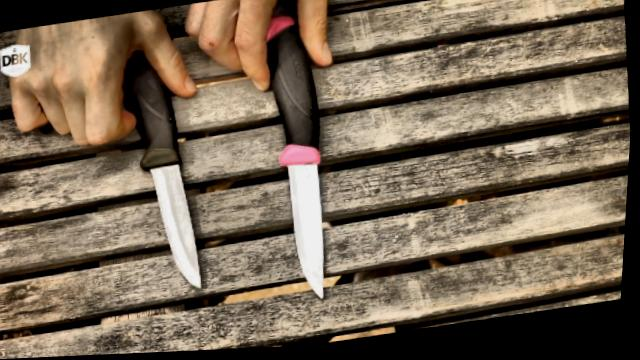knife: (61, 53, 221, 313), (233, 35, 354, 318)
